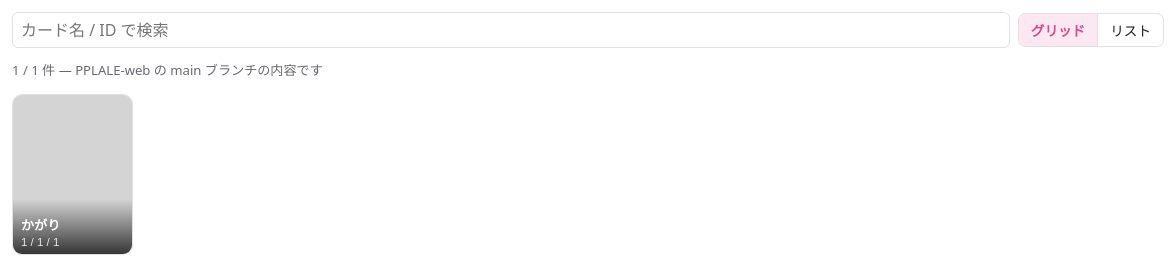
CardList › switches to the list view on request
Click the button "リスト".
click(1131, 30)  # box [1098, 14, 1163, 46]
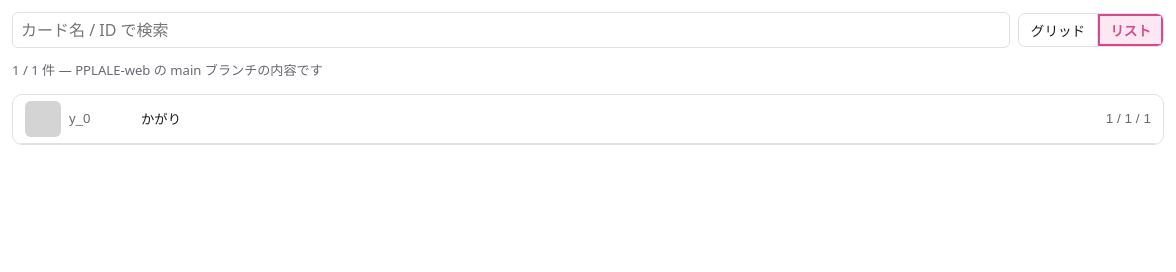
Check: the picture with class "grid-thumb" is gone
